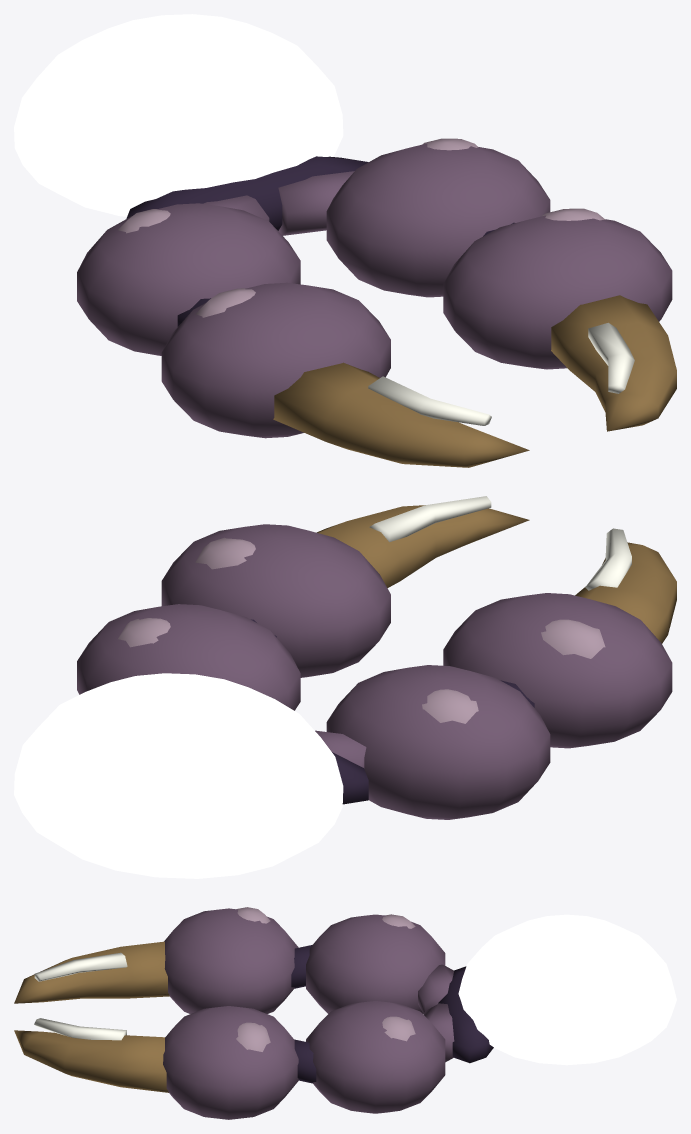
The model's file is newshg-121-f3.glb.
3 renders of one model, top to bottom at view 1: azimuth 30°, elevation 25°; view 2: azimuth 150°, elevation 25°; view 3: azimuth 270°, elevation 25°, orthographic. The views are drawn at different scales.
Parts seen in each view (by area): view 1: newshg-121-f3; view 2: newshg-121-f3; view 3: newshg-121-f3.
Boxes of the visible parts, x1=… form: newshg-121-f3: x1=14, y1=14, x2=676, y2=467; newshg-121-f3: x1=14, y1=496, x2=676, y2=878; newshg-121-f3: x1=14, y1=907, x2=676, y2=1119.
Size of the model in its own units: 1.27 by 0.45 by 2.11.
